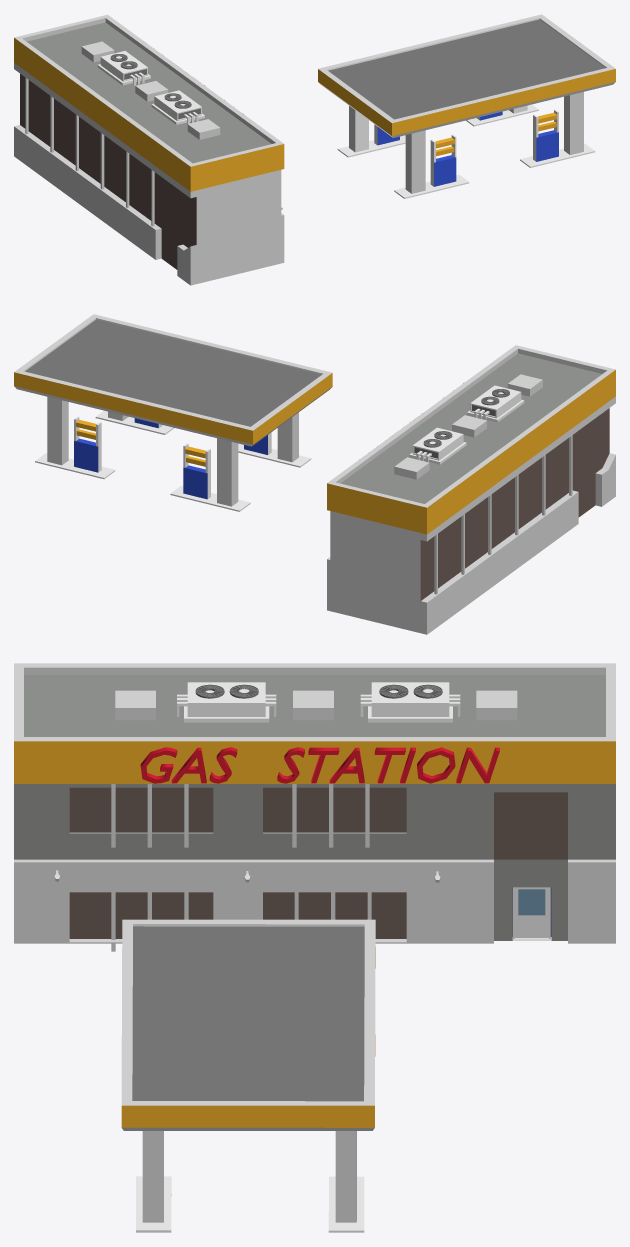
The model's file is Gas_Station_tran.glb.
3 views of the same model, one above another, from view 1: azimuth 30°, elevation 25°; view 2: azimuth 150°, elevation 25°; view 3: azimuth 270°, elevation 25° (orthographic). The views are drawn at different scales.
Parts seen in each view (by area): view 1: Cube.1855, gas station.002, Cube.6383, Cube.13760, Cube.13759, Cube.2356, Cube.2358, Cube.2357; view 2: Cube.1855, gas station.002, Cube.6383, Cube.13759, Cube.13760, Cube.2358, Cube.2357, Cube.2356; view 3: Cube.1855, gas station.002, Text.044, Cube.13760, Cube.13759, Door_9.008, Cube.2358, Cube.2356, Cube.2357, Cube.6381, Cube.6382.
Boxes of the visible parts, bbox=[...] form: Cube.1855: bbox=[14, 14, 284, 285]; gas station.002: bbox=[318, 14, 615, 198]; Cube.6383: bbox=[25, 77, 154, 226]; Cube.13760: bbox=[97, 51, 150, 85]; Cube.13759: bbox=[151, 90, 204, 124]; Cube.2356: bbox=[187, 119, 220, 139]; Cube.2358: bbox=[81, 41, 114, 62]; Cube.2357: bbox=[135, 81, 168, 101]; Cube.1855: bbox=[327, 345, 615, 634]; gas station.002: bbox=[14, 314, 332, 511]; Cube.6383: bbox=[434, 435, 572, 594]; Cube.13759: bbox=[467, 385, 524, 422]; Cube.13760: bbox=[409, 427, 466, 464]; Cube.2358: bbox=[394, 457, 429, 479]; Cube.2357: bbox=[452, 415, 486, 437]; Cube.2356: bbox=[507, 374, 542, 396]; Cube.1855: bbox=[14, 663, 615, 943]; gas station.002: bbox=[121, 919, 375, 1232]; Text.044: bbox=[140, 747, 499, 783]; Cube.13760: bbox=[360, 682, 460, 722]; Cube.13759: bbox=[177, 682, 276, 722]; Door_9.008: bbox=[513, 887, 550, 938]; Cube.2358: bbox=[476, 690, 517, 720]; Cube.2356: bbox=[115, 690, 155, 720]; Cube.2357: bbox=[293, 690, 333, 720]; Cube.6381: bbox=[111, 784, 188, 847]; Cube.6382: bbox=[292, 784, 369, 847].
Bounding box in the file's own units: 0.6034 × 0.168 × 0.4038.
